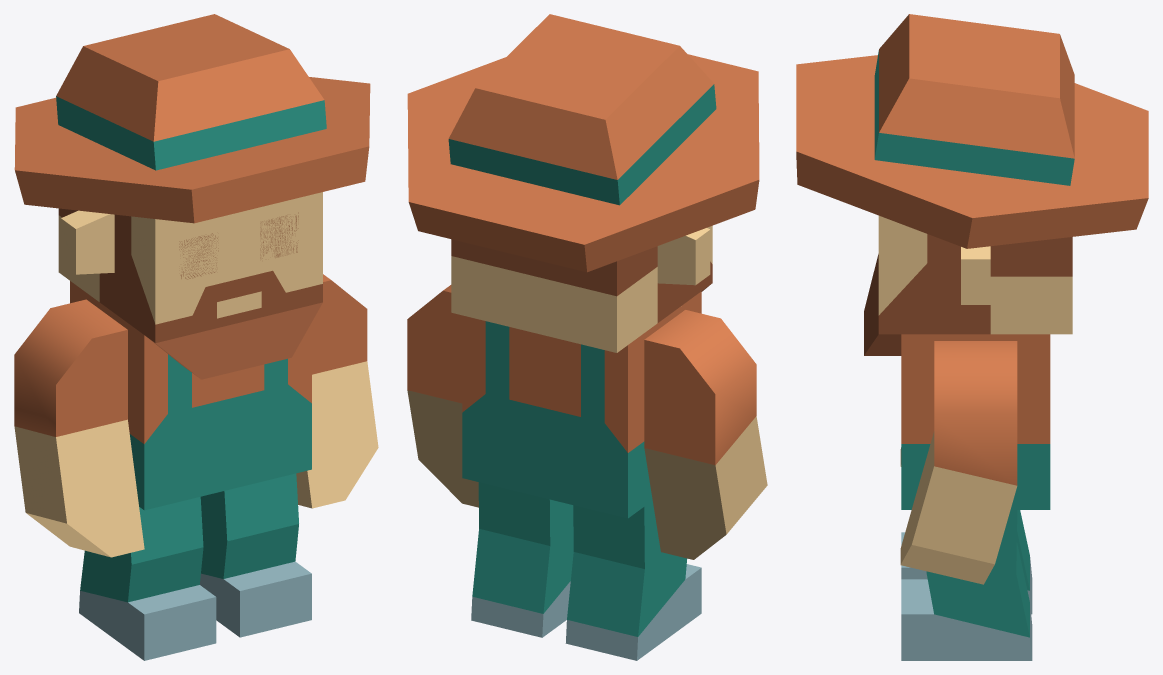
Rendered from characterDigger.obj.
The picture shows the model from 3 angles, left to right: view 1: azimuth 30°, elevation 25°; view 2: azimuth 150°, elevation 25°; view 3: azimuth 270°, elevation 25°; orthographic projection.
Parts seen in each view (by area): view 1: head, armRight, body, legRight, legLeft, armLeft; view 2: head, body, armRight, legRight, legLeft, armLeft; view 3: head, armLeft, legLeft, body, legRight.
Boxes of the visible parts, x1,y1,x2,y2 form: head: [14, 14, 370, 379]; armRight: [14, 299, 144, 557]; body: [70, 281, 311, 510]; legRight: [79, 497, 216, 660]; legLeft: [200, 473, 311, 637]; armLeft: [296, 274, 378, 508]; head: [407, 14, 759, 352]; body: [462, 291, 701, 518]; armRight: [644, 310, 767, 559]; legRight: [565, 501, 701, 660]; legLeft: [471, 482, 573, 637]; armLeft: [407, 285, 478, 507]; head: [796, 14, 1148, 355]; armLeft: [900, 341, 1017, 584]; legLeft: [901, 510, 1032, 660]; body: [901, 334, 1050, 509]; legRight: [901, 510, 1032, 614].
Size of the model in its own units: 0.5516 by 0.8487 by 0.4727.
